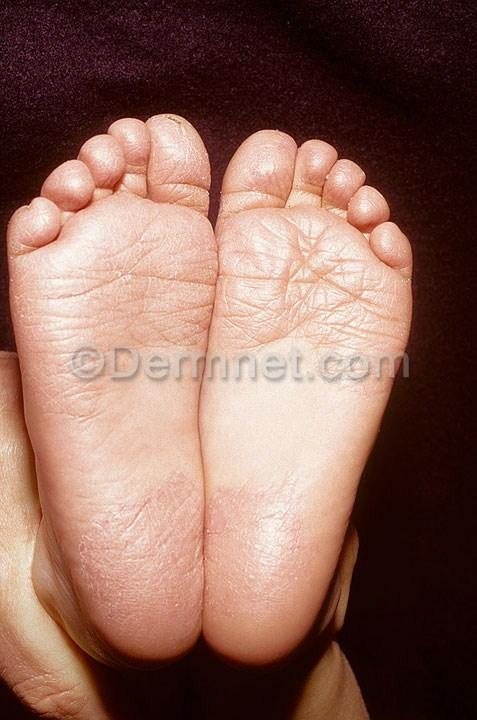Eczema: (17, 228, 210, 366), (230, 230, 397, 369), (77, 490, 194, 587), (216, 492, 305, 602), (156, 114, 193, 150)
